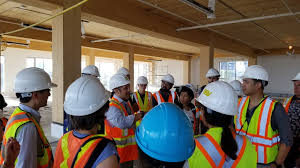Person_wearing_helmet: (12, 64, 50, 97), (240, 63, 268, 84)
